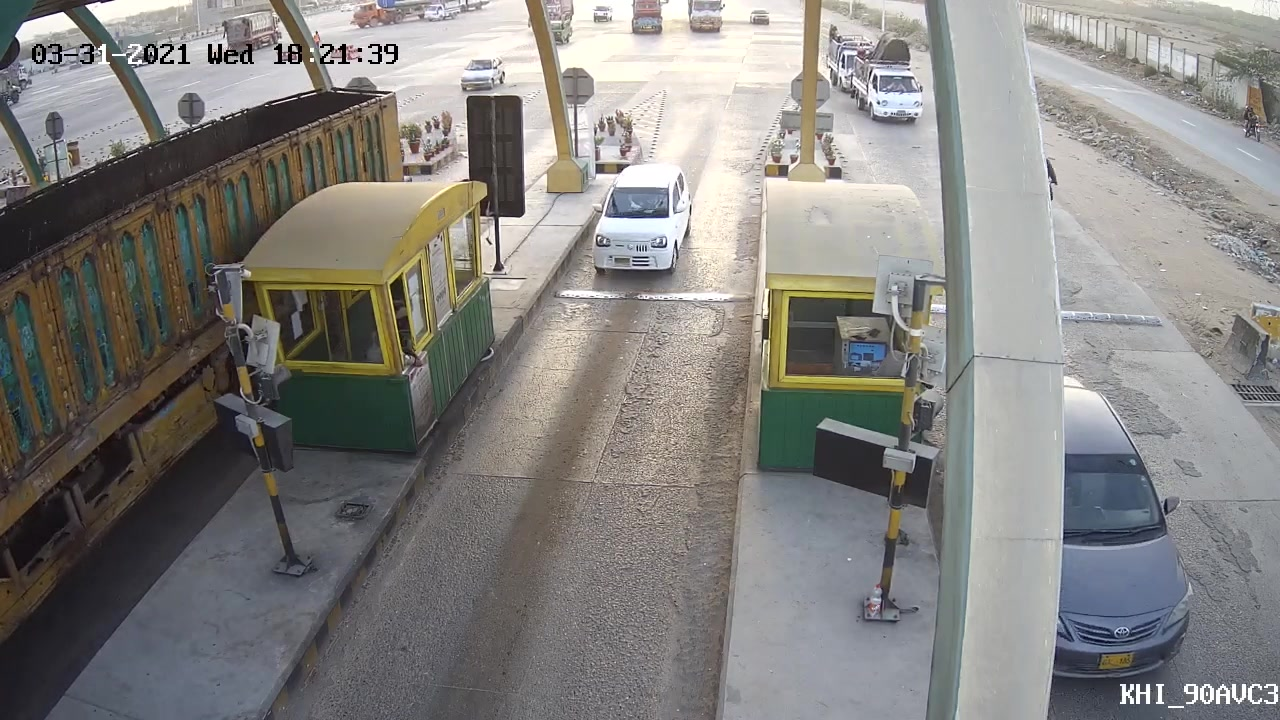F1: (582, 154, 694, 280)
